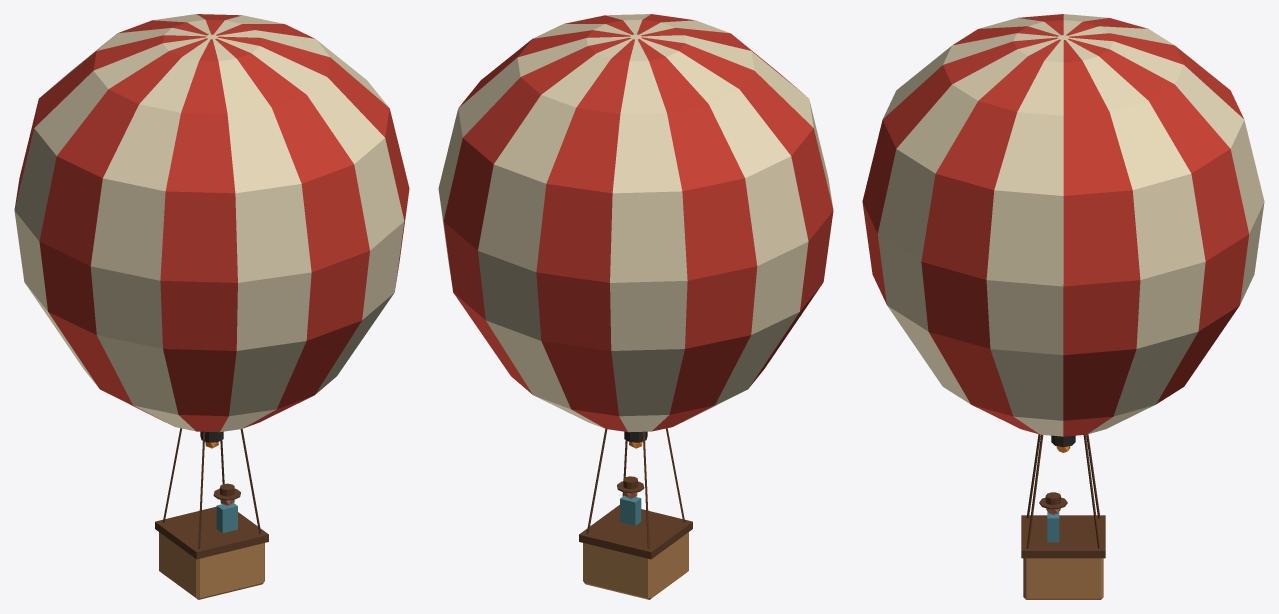
Rendered from Balloon.fbx.
3 renders of one model, left to right at view 1: azimuth 30°, elevation 25°; view 2: azimuth 150°, elevation 25°; view 3: azimuth 270°, elevation 25°, orthographic.
Parts seen in each view (by area): view 1: Balloon; view 2: Balloon; view 3: Balloon.
Part boxes in pixels (x1,y1,x2,y2): Balloon: (14, 14, 409, 599); Balloon: (438, 14, 833, 599); Balloon: (862, 14, 1264, 599).
Size of the model in its own units: 20 by 30 by 20.
